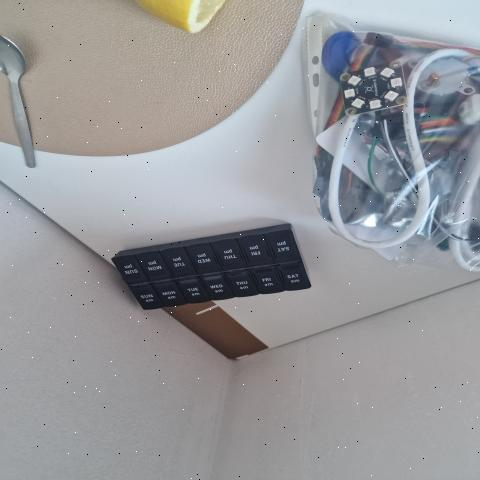PillBox: (93, 218, 326, 319)
